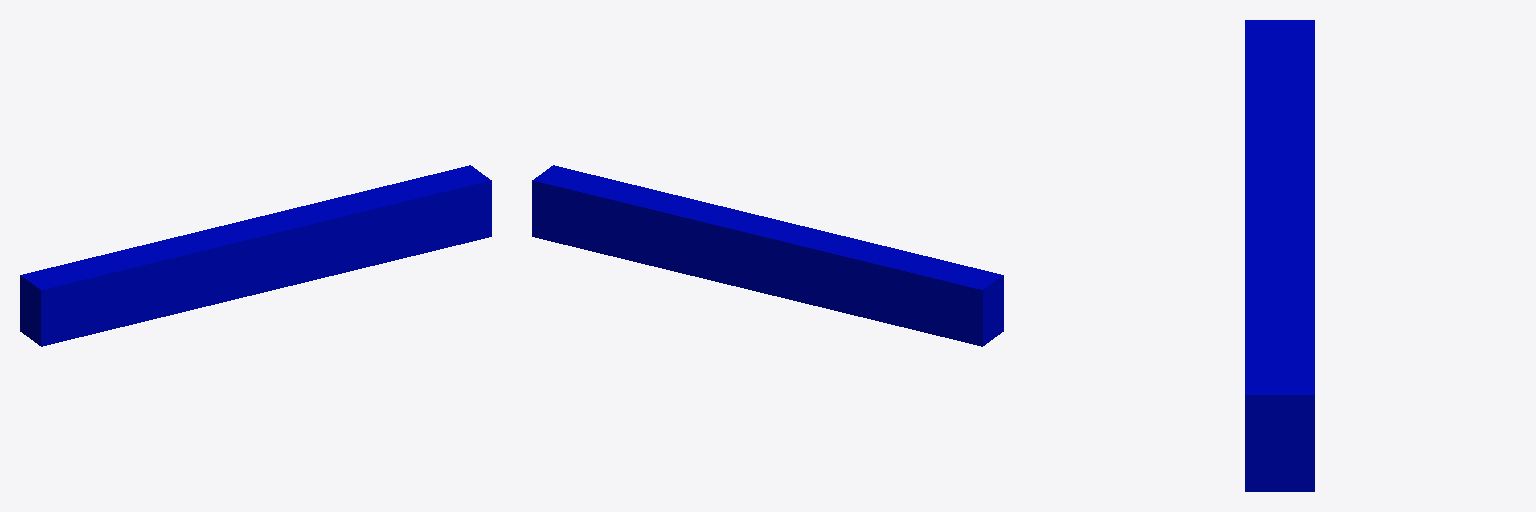
robot.urdf — ring:
<?xml version="0.0" ?>
<robot name="ring">
    <material name="blue">
        <color rgba="0.006995 0.054480 0.799103 1"/>
    </material>

    <link name="baseLink">
        <!-- from lego/lego.urdf -->
        <contact>
            <lateral_friction value="1.0"/>
            <rolling_friction value="0.0"/>
            <contact_cfm value="0.0"/>
            <contact_erp value="1.0"/>
        </contact>
        <inertial>
            <origin rpy="0 0 0" xyz="0 0 0"/>
            <mass value="0.71"/>
            <inertia ixx="1" ixy="0" ixz="0" iyy="1" iyz="0" izz="1"/>
        </inertial>
        <visual>
            <origin rpy="0 0 0" xyz="0 0 0"/>
            <geometry>
                <!--        radius: 10mm, depth: 14.5mm-->
                <!-- <mesh filename="meshes/1.obj" scale="1 1 1"/> -->
                <box size="2.5 0.2 0.3"/>
            </geometry>
            <material name="blue"/>
        </visual>
        <collision>
            <origin rpy="0 0 0" xyz="0 0 0"/>
            <geometry>
                <!-- <mesh filename="meshes/1_vhacd.obj" scale="1 1 1"/> -->
                <box size="2.5 0.2 0.3"/>
            </geometry>
        </collision>
    </link>

</robot>

--- Facts derived from the render (not from the file) ---
The picture shows the robot from 3 angles, left to right: view 1: azimuth 30°, elevation 25°; view 2: azimuth 150°, elevation 25°; view 3: azimuth 270°, elevation 25°; orthographic projection.
Robot: ring — 1 links, 0 joints (none); root link baseLink; default pose: all joints at 0.
Links seen in each view (by area): view 1: baseLink; view 2: baseLink; view 3: baseLink.
Link boxes in pixels (x1=…): baseLink: x1=20, y1=165, x2=491, y2=346; baseLink: x1=532, y1=165, x2=1003, y2=346; baseLink: x1=1245, y1=20, x2=1314, y2=491.
Size in the robot's own frame: 2.5 by 0.2 by 0.3 metres.
Geometry: primitives only (box / cylinder / sphere), no mesh files.